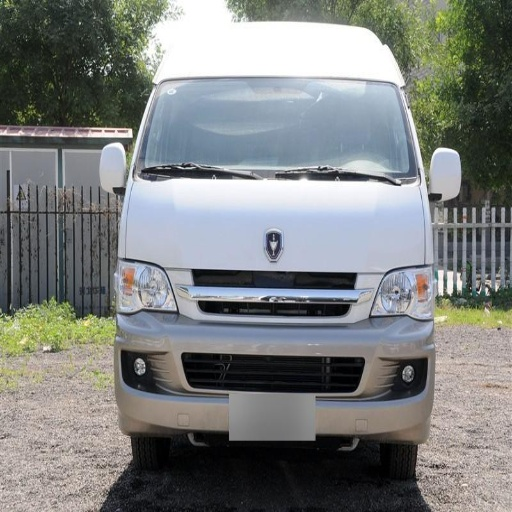front_bumper: (116, 269, 432, 433)
front_right_light: (113, 258, 175, 313)
hood: (125, 179, 427, 273)
left_mirror: (429, 148, 461, 203)
